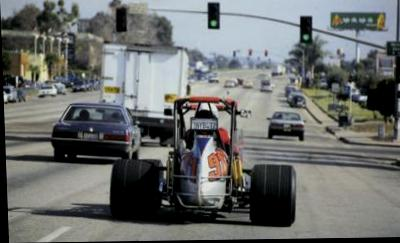License_Plate: (191, 117, 218, 130)
